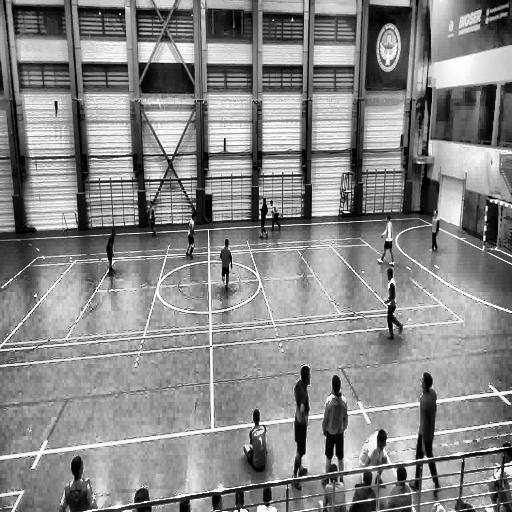player: (416, 373, 439, 491), (323, 373, 348, 477), (292, 365, 311, 481), (383, 268, 402, 341), (378, 216, 393, 266), (220, 238, 233, 290), (184, 210, 196, 258), (106, 225, 117, 274), (258, 196, 269, 240), (430, 208, 439, 252), (148, 201, 158, 237), (270, 198, 281, 230)
